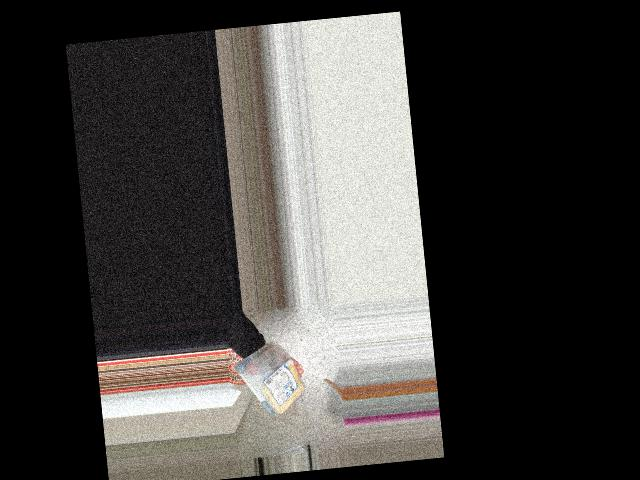cheese: (237, 340, 308, 421)
